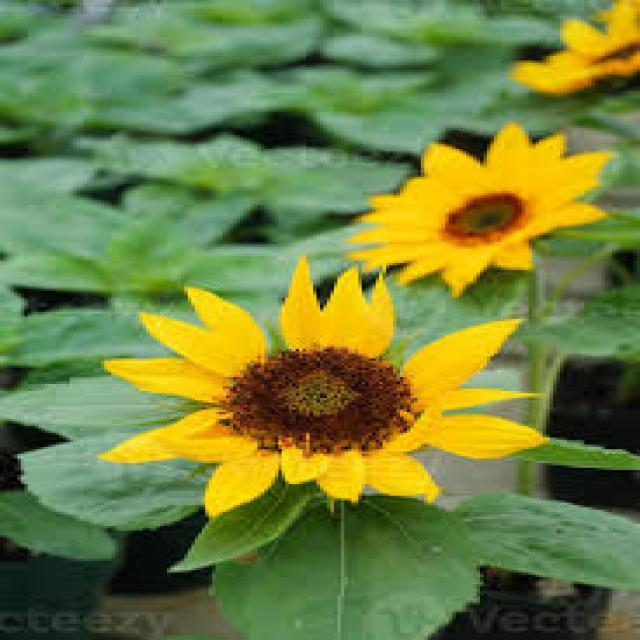sunflower: (88, 246, 573, 528), (330, 118, 624, 301), (498, 0, 640, 100)
